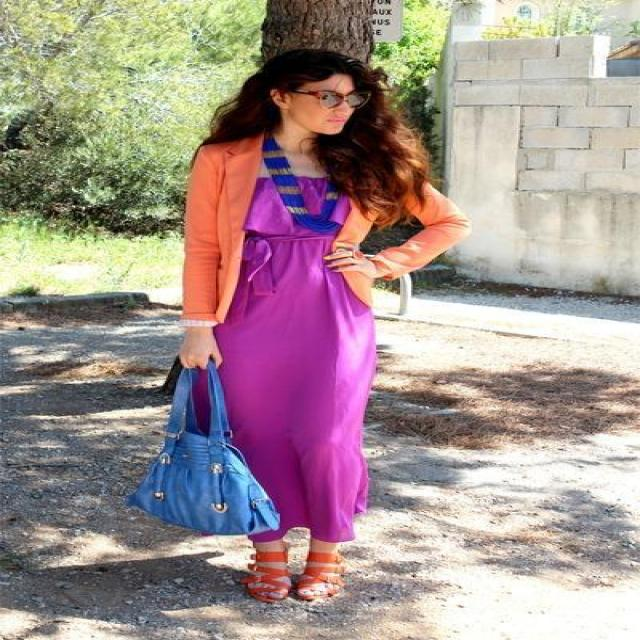bag: (119, 355, 278, 538)
dress: (212, 180, 390, 550)
jacket: (172, 135, 466, 322)
shoe: (230, 550, 356, 600)
sunglass: (272, 74, 358, 112)
